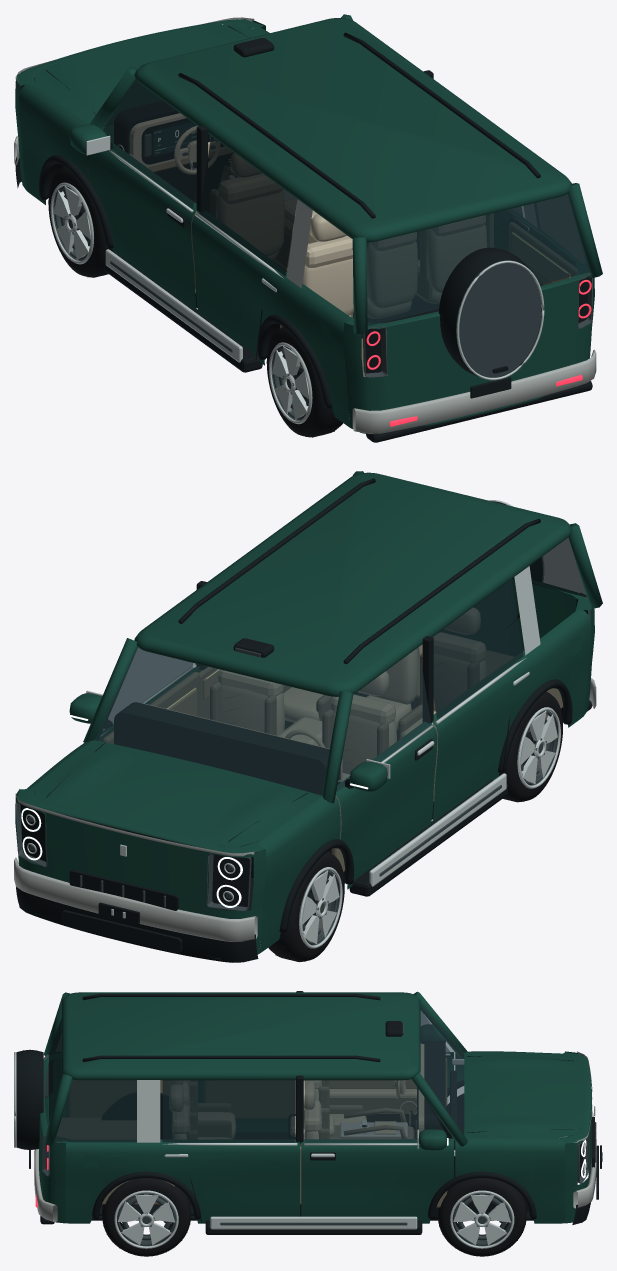
File: xiangjie-g9-detailed.glb
3 renders of one model, top to bottom at view 1: azimuth 30°, elevation 25°; view 2: azimuth 150°, elevation 25°; view 3: azimuth 270°, elevation 25°, orthographic. The views are drawn at different scales.
Visible parts, largest first — view 1: rounded_roof_shell, rear_glass, tail_with_open_lamp_apertures, rear_body-1, front_door-1, hood, rear_window-1, oval_tail_storage_lid, front_window-1, rear_silver_bumper, front_fender-1, oval_tail_storage_shell (+39 smaller); view 2: rounded_roof_shell, windscreen, hood, rear_body-1, nose_with_open_lamp_apertures, dash_upper, front_door-1, rear_window-1, front_window-1, front_fender-1, front_silver_bumper, tail_with_open_lamp_apertures (+35 smaller); view 3: rounded_roof_shell, rear_body1, front_door1, hood, rear_window1, front_window1, front_fender1, quarter_window1, windscreen, rear_lining-10.55, Tire_FR, Tire_RR (+42 smaller).
Boxes of the visible parts, <box> form: rounded_roof_shell: <box>134,18,571,242</box>; rear_glass: <box>366,192,590,326</box>; tail_with_open_lamp_apertures: <box>343,277,594,433</box>; rear_body-1: <box>192,211,352,427</box>; front_door-1: <box>88,141,197,311</box>; hood: <box>34,24,265,125</box>; rear_window-1: <box>199,136,297,275</box>; oval_tail_storage_lid: <box>459,263,541,377</box>; front_window-1: <box>103,79,197,208</box>; rear_silver_bumper: <box>352,349,596,433</box>; front_fender-1: <box>19,82,88,204</box>; oval_tail_storage_shell: <box>438,247,541,376</box>; rounded_roof_shell: <box>134,472,572,696</box>; windscreen: <box>95,646,338,795</box>; hood: <box>34,740,321,846</box>; rear_body-1: <box>432,610,590,822</box>; nose_with_open_lamp_apertures: <box>15,789,266,959</box>; dash_upper: <box>114,702,340,794</box>; front_door-1: <box>335,721,437,889</box>; rear_window-1: <box>433,579,523,719</box>; front_window-1: <box>336,647,430,791</box>; front_fender-1: <box>255,796,340,953</box>; front_silver_bumper: <box>14,857,257,941</box>; tail_with_open_lamp_apertures: <box>440,578,594,715</box>; rounded_roof_shell: <box>61,992,420,1080</box>; rear_body1: <box>66,1139,299,1223</box>; front_door1: <box>301,1138,453,1223</box>; hood: <box>464,1052,583,1138</box>; rear_window1: <box>162,1080,295,1142</box>; front_window1: <box>305,1079,449,1142</box>; front_fender1: <box>455,1138,564,1223</box>; quarter_window1: <box>55,1079,136,1142</box>; windscreen: <box>420,1004,464,1134</box>; rear_lining-10.55: <box>204,1081,295,1118</box>; Tire_FR: <box>438,1178,526,1256</box>; Tire_RR: <box>102,1178,190,1256</box>.
Size of the model in its own units: 2.58 by 1.96 by 5.54.
18 materials, 3 textured.
